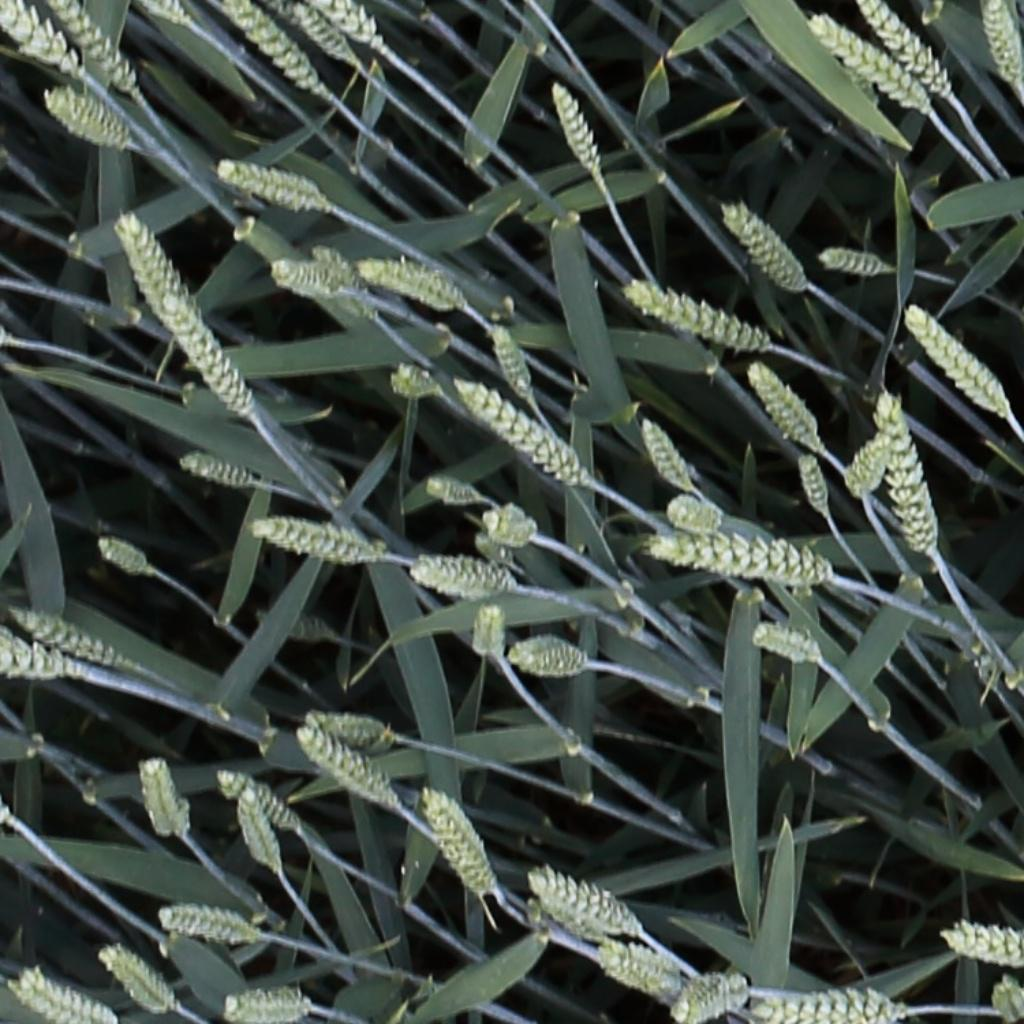0-0: (458, 380, 588, 487), (802, 15, 927, 115), (901, 301, 1007, 417), (163, 294, 257, 417), (873, 389, 939, 555), (856, 0, 957, 99), (109, 207, 196, 320), (623, 282, 768, 349), (221, 0, 320, 95), (416, 787, 494, 901), (46, 0, 137, 95), (293, 729, 395, 813), (1, 597, 128, 662), (643, 539, 828, 581), (719, 199, 804, 289), (526, 869, 637, 936), (742, 357, 820, 451), (248, 520, 390, 565), (543, 76, 603, 180), (211, 158, 324, 213), (749, 984, 904, 1024), (12, 973, 123, 1024), (152, 897, 259, 947), (634, 410, 696, 496), (137, 755, 198, 842), (271, 0, 352, 65), (40, 91, 129, 150), (95, 946, 173, 1013), (356, 258, 462, 307), (211, 772, 299, 830), (0, 628, 95, 681), (0, 2, 76, 68), (230, 789, 281, 882), (314, 249, 378, 322), (408, 553, 519, 594), (483, 316, 533, 405), (593, 938, 677, 987), (981, 1, 1024, 91), (671, 970, 747, 1020), (842, 432, 895, 501), (316, 0, 382, 50), (946, 923, 1024, 964), (223, 989, 311, 1024), (512, 638, 586, 678), (748, 626, 823, 664), (793, 447, 832, 520), (301, 714, 387, 744), (176, 454, 253, 487), (482, 497, 537, 543), (267, 259, 341, 293), (94, 536, 147, 574), (664, 498, 722, 532), (472, 598, 501, 666), (817, 248, 895, 273), (390, 363, 433, 399), (421, 477, 479, 502), (143, 0, 188, 28)
